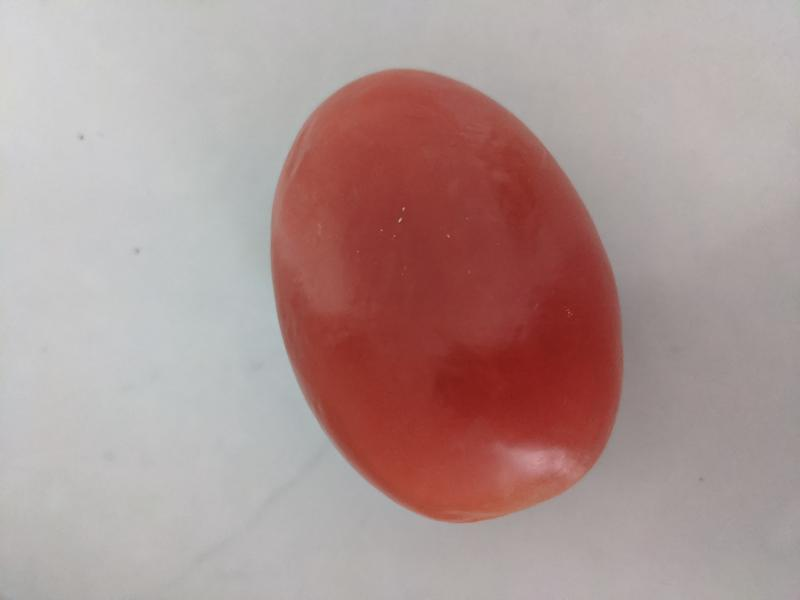tomato: (268, 68, 627, 523)
